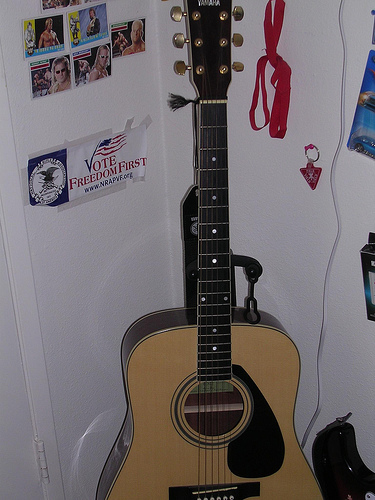guitar: (92, 1, 328, 500)
